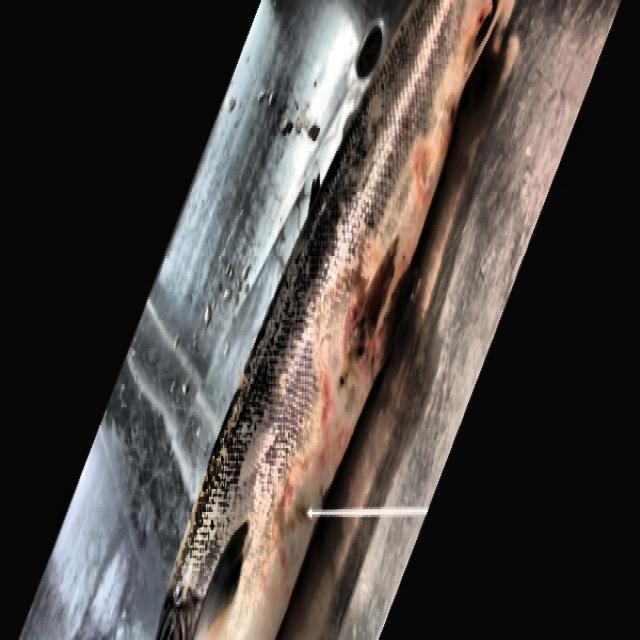mild_red: (156, 0, 503, 637)
